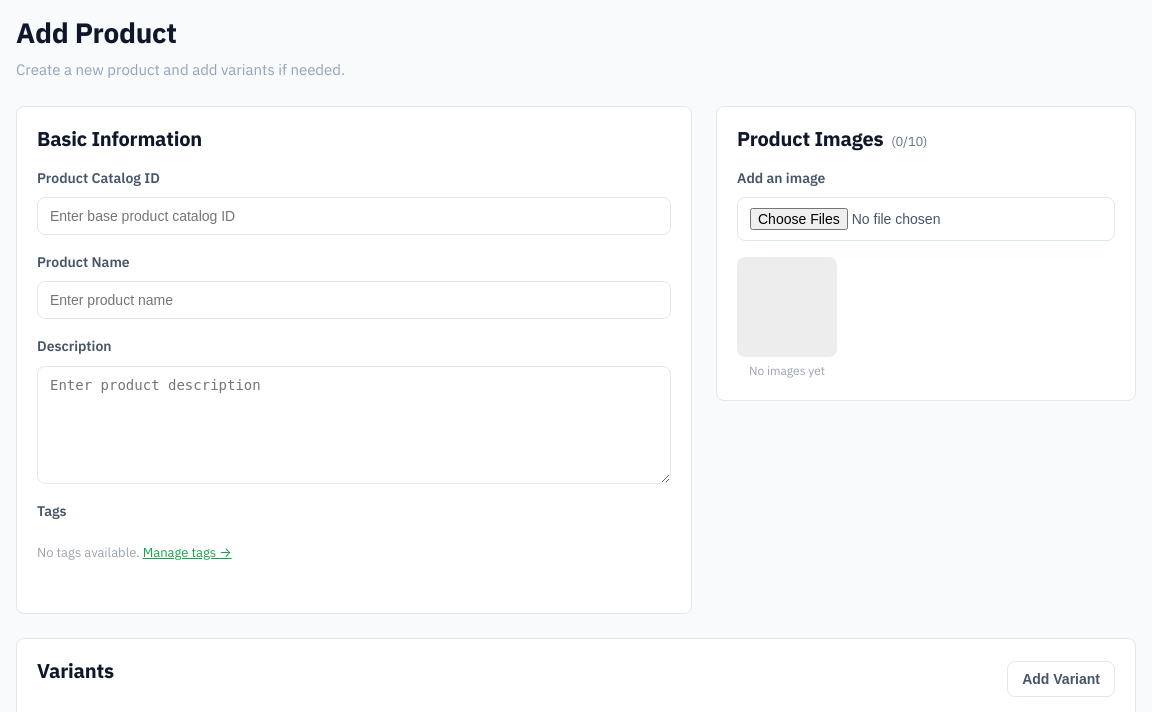
it: AdminProductDetailPage › saving › reports a failed save instead of navigating away from it
The image size is (1152, 712).
Type "CAT-1" into the field labelled "Product Catalog ID".
click(354, 216); type("CAT-1")  # box [37, 197, 671, 235]
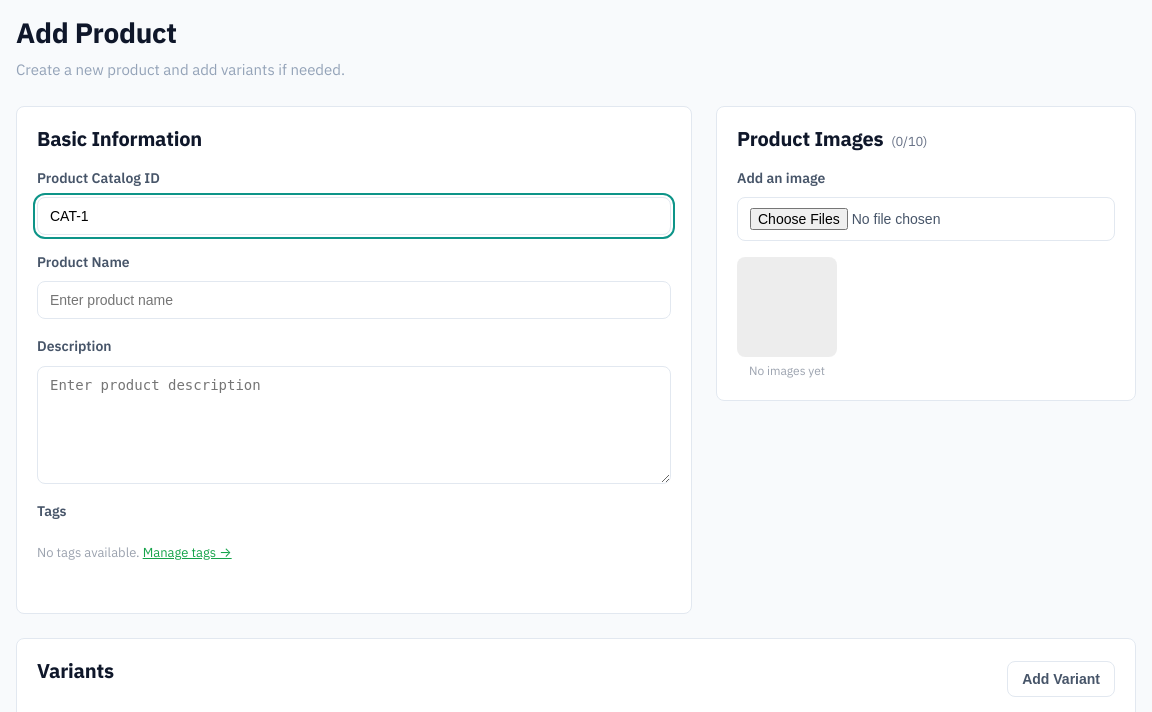
Type "A product" into the field labelled "Product Name".
click(354, 300); type("A product")  # box [37, 281, 671, 319]
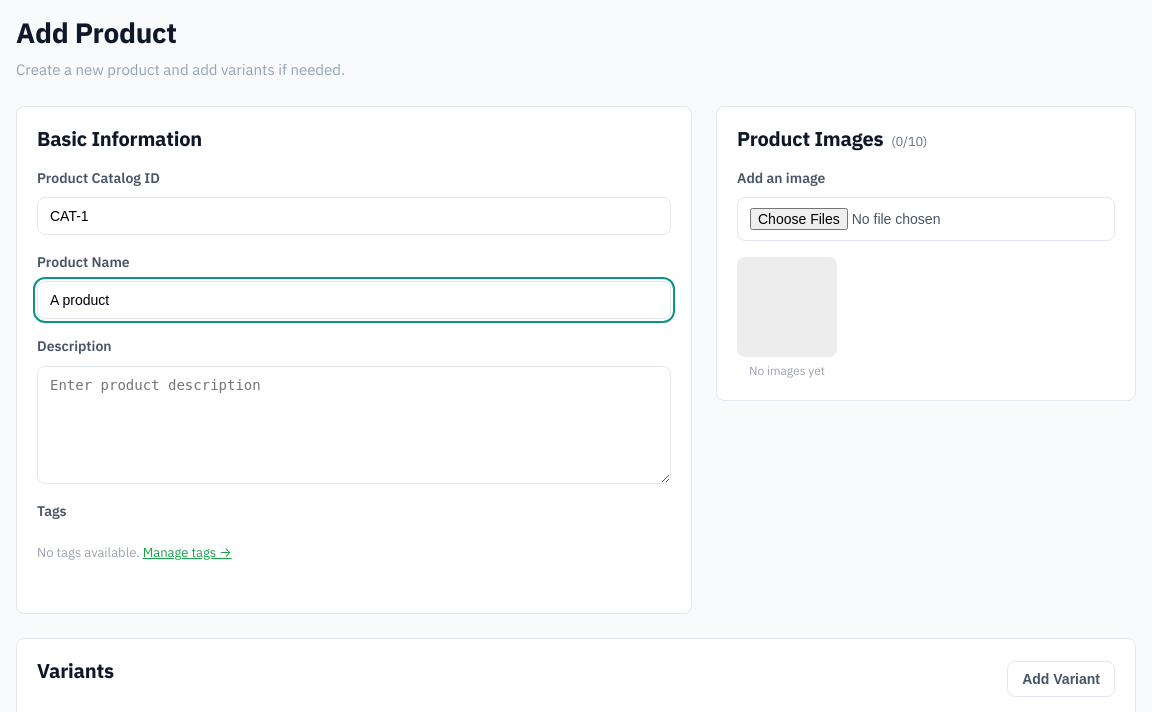
Type "Describes it." into the text box labelled "Description".
click(354, 425); type("Describes it.")  # box [37, 366, 671, 484]
(page scrolled)
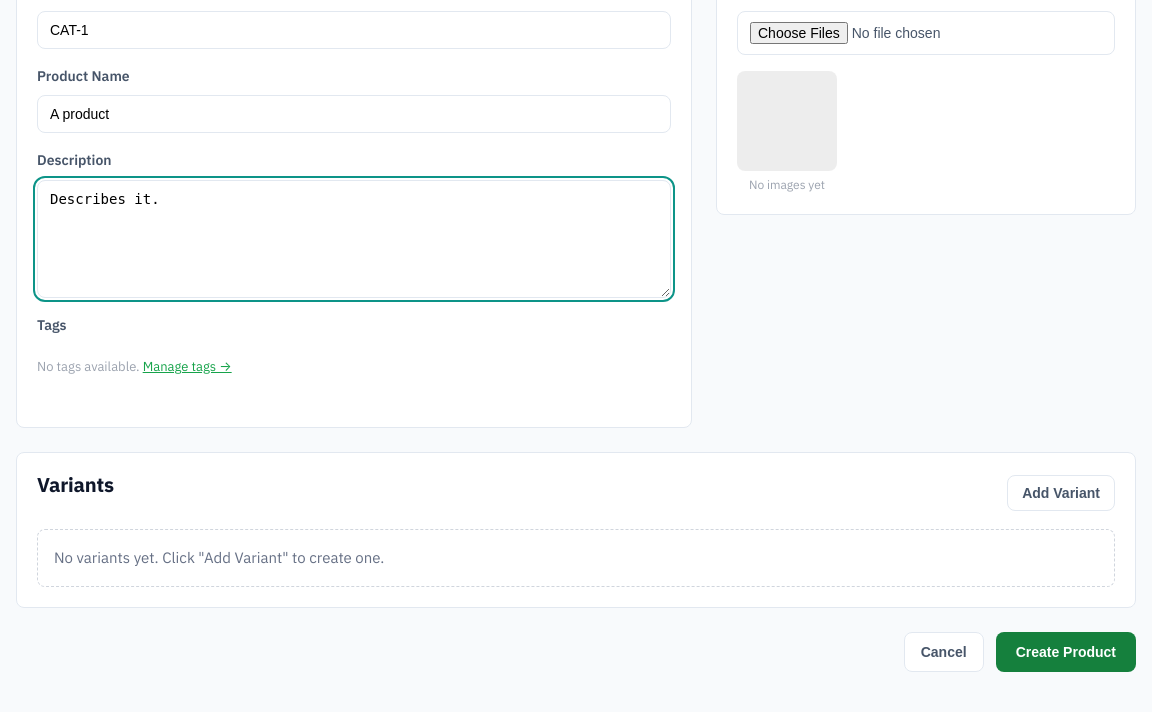
Click the button "Create Product".
click(1066, 652)  # box [996, 632, 1136, 672]
(page scrolled)
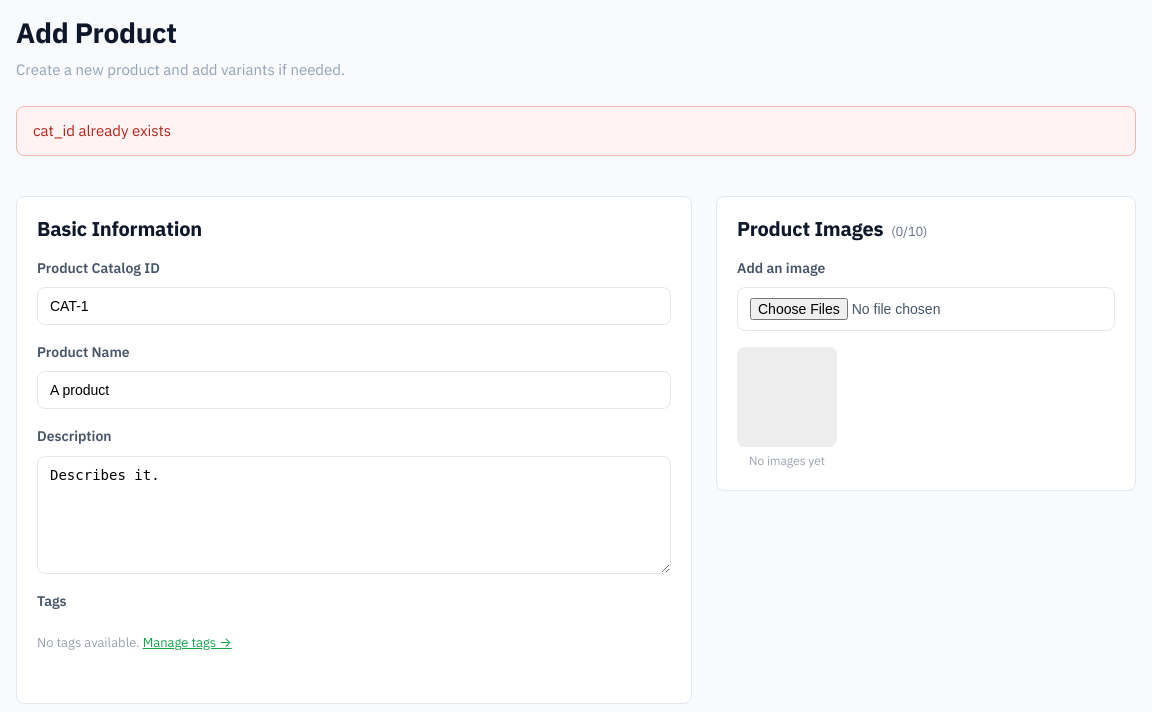
expect the text "cat_id already exists" is shown: met, box [33, 121, 171, 140]
